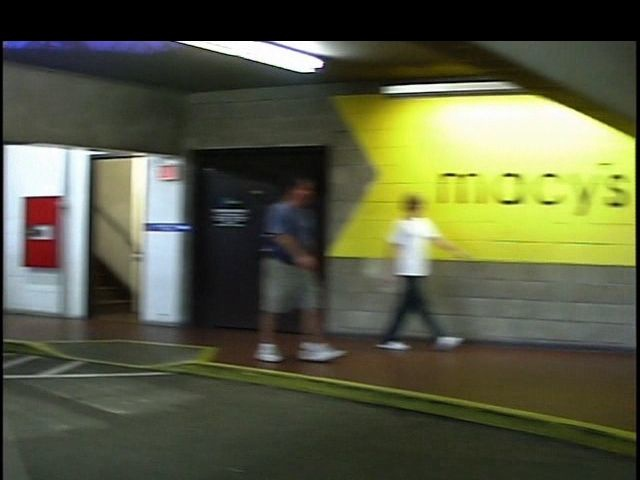person: (236, 169, 333, 366), (358, 184, 446, 361)
